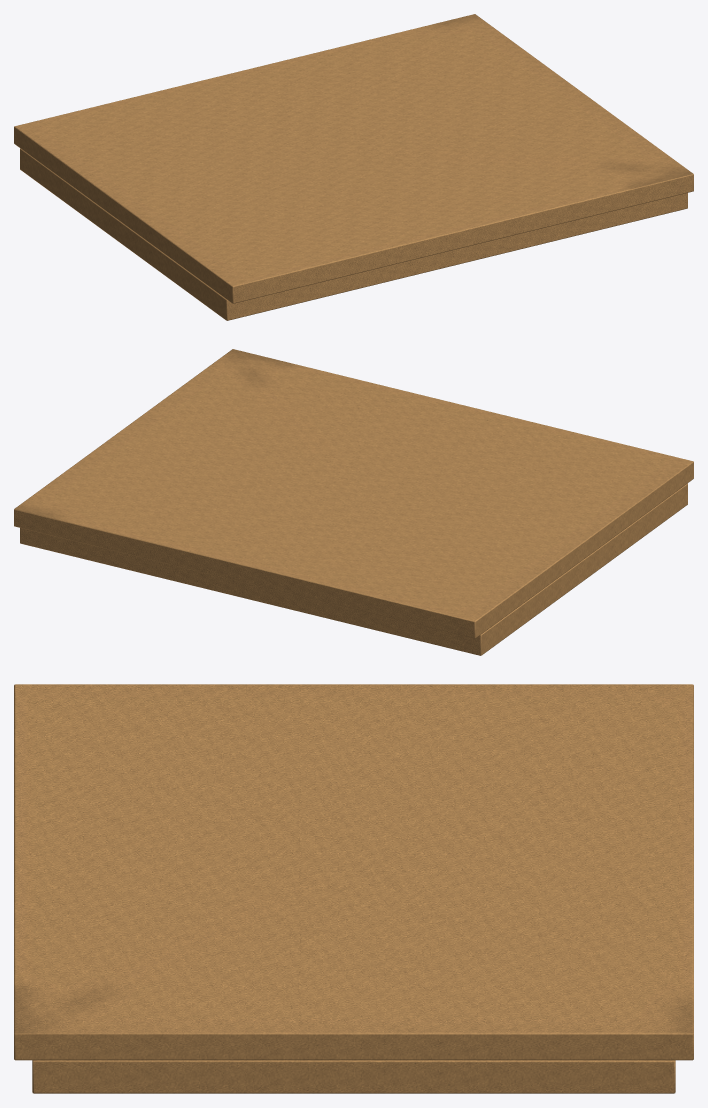
The model's file is 10-top-box-lid-right.fbx.
3 views of the same model, one above another, from view 1: azimuth 30°, elevation 25°; view 2: azimuth 150°, elevation 25°; view 3: azimuth 270°, elevation 25° (orthographic). The views are drawn at different scales.
Parts seen in each view (by area): view 1: top-box-lid-right; view 2: top-box-lid-right; view 3: top-box-lid-right.
Boxes of the visible parts, x1,y1,x2,y2 form: top-box-lid-right: (14, 14, 693, 320); top-box-lid-right: (14, 349, 693, 655); top-box-lid-right: (14, 684, 693, 1093).
Bounding box in the file's own units: 9000 × 730 × 7400.
Materials: 1 (1 with a texture image).
